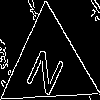N: (23, 40, 71, 98)
